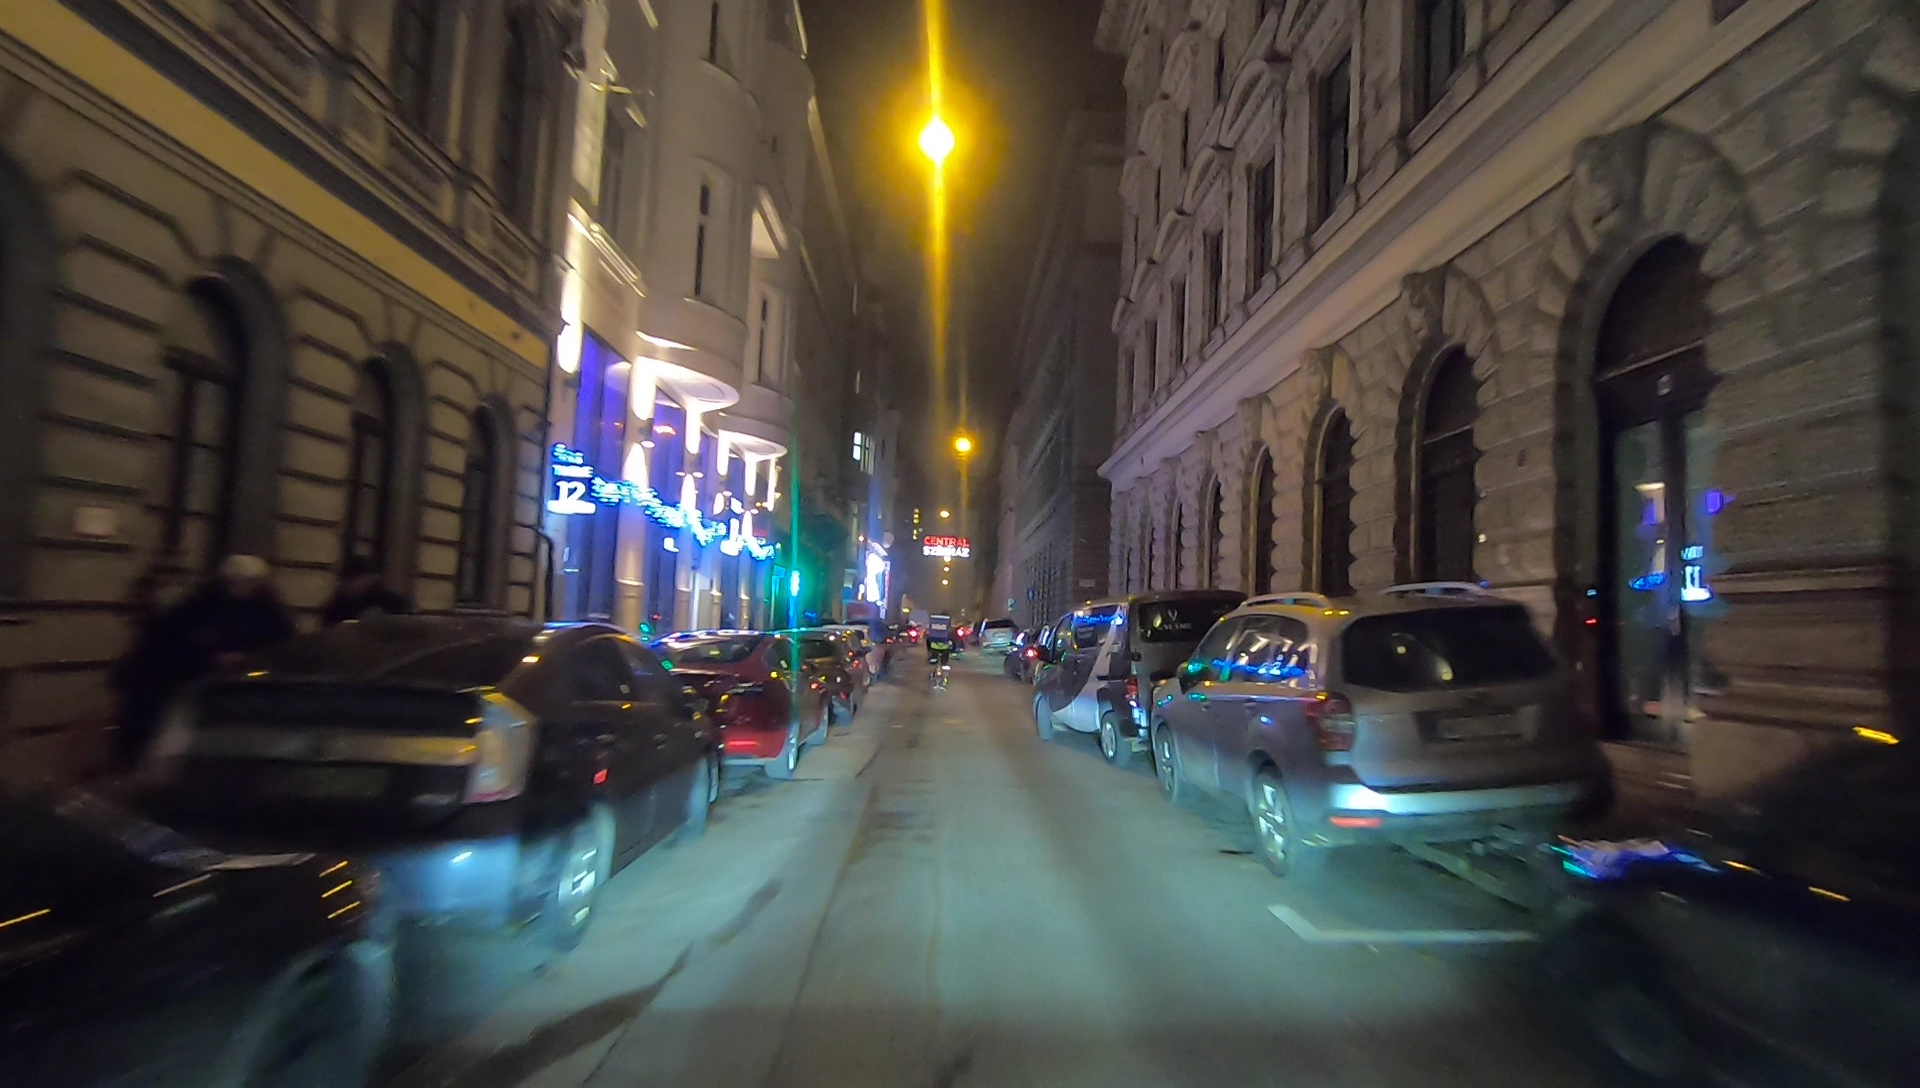person: (184, 556, 280, 773), (325, 558, 417, 706)
